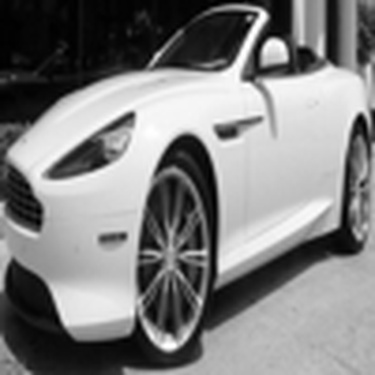car: (5, 4, 370, 372)
